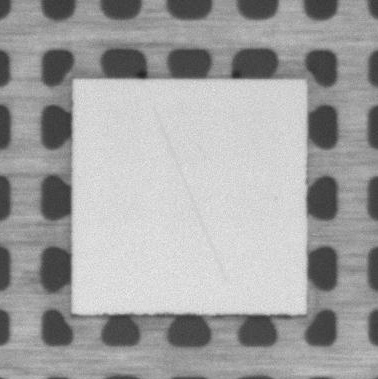DIE_CRACK: (154, 107, 225, 281)
